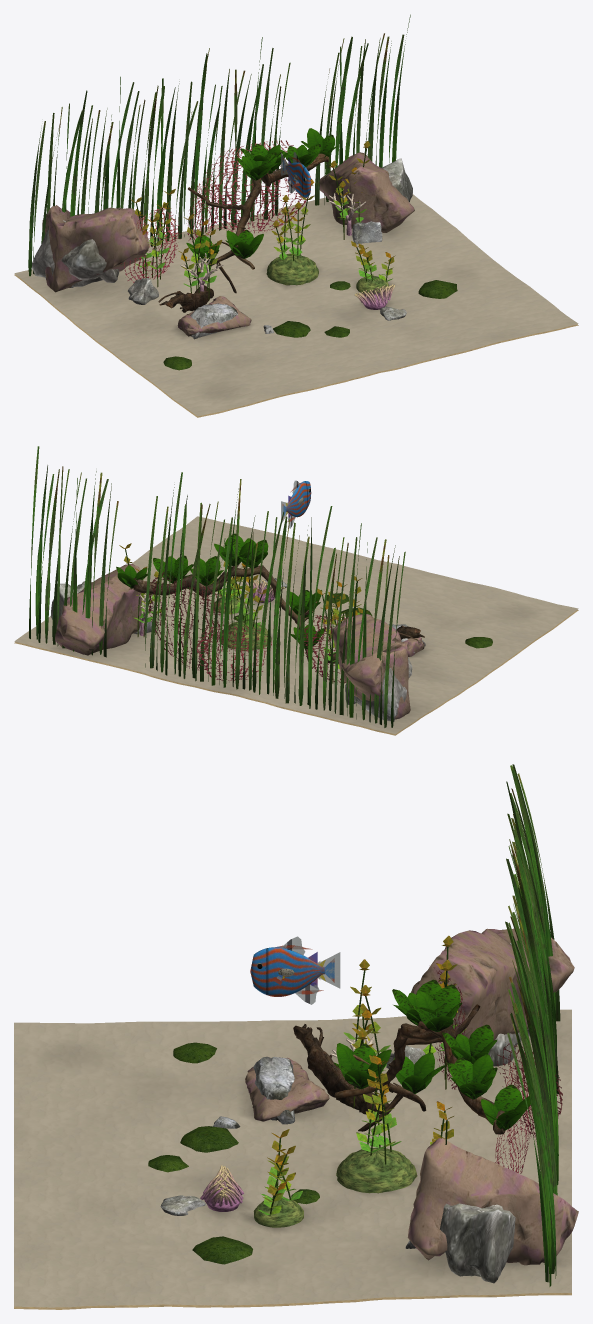
File: aquarium-scape-hd.glb
3 renders of one model, top to bottom at view 1: azimuth 30°, elevation 25°; view 2: azimuth 150°, elevation 25°; view 3: azimuth 270°, elevation 25°, orthographic. The views are drawn at different scales.
Parts seen in each view (by area): view 1: reef-sand, fresh-plant-vallisneria, reef-rocks, fresh-rocks, fresh-plant-rotala, reef-coral-fan, fresh-plant-fern, fresh-driftwood, fresh-plant-moss, reef-coral-brain, substrate, reef-coral-staghorn (+2 smaller); view 2: reef-sand, fresh-plant-vallisneria, reef-rocks, fresh-plant-fern, reef-coral-fan, fresh-plant-rotala, fresh-driftwood, fresh-rocks, substrate, reef-coral-brain, fresh-plant-moss, discus-body; view 3: reef-sand, reef-rocks, fresh-plant-vallisneria, fresh-plant-fern, fresh-rocks, fresh-plant-rotala, fresh-driftwood, reef-coral-brain, fresh-plant-moss, discus-body, reef-coral-fan, substrate (+2 smaller).
Part boxes in pixels (bbox=[...]): reef-sand: bbox=[14, 194, 578, 416]; fresh-plant-vallisneria: bbox=[28, 14, 410, 276]; reef-rocks: bbox=[42, 152, 414, 336]; fresh-rocks: bbox=[32, 158, 412, 339]; fresh-plant-rotala: bbox=[130, 141, 395, 300]; reef-coral-fan: bbox=[120, 140, 309, 282]; fresh-plant-fern: bbox=[186, 128, 337, 263]; fresh-driftwood: bbox=[158, 153, 329, 312]; fresh-plant-moss: bbox=[163, 280, 457, 370]; reef-coral-brain: bbox=[266, 253, 388, 293]; substrate: bbox=[14, 274, 578, 417]; reef-coral-staghorn: bbox=[180, 192, 365, 291]; reef-sand: bbox=[14, 516, 578, 734]; fresh-plant-vallisneria: bbox=[29, 446, 405, 727]; reef-rocks: bbox=[55, 564, 424, 719]; fresh-plant-fern: bbox=[116, 533, 324, 649]; reef-coral-fan: bbox=[148, 571, 347, 682]; fresh-plant-rotala: bbox=[119, 543, 368, 683]; fresh-driftwood: bbox=[130, 563, 424, 668]; fresh-rocks: bbox=[50, 578, 425, 721]; substrate: bbox=[14, 610, 578, 735]; reef-coral-brain: bbox=[214, 596, 271, 650]; fresh-plant-moss: bbox=[182, 574, 492, 648]; discus-body: bbox=[285, 481, 311, 517]; reef-sand: bbox=[14, 1009, 571, 1307]; reef-rocks: bbox=[245, 928, 578, 1265]; fresh-plant-vallisneria: bbox=[505, 764, 560, 1286]; fresh-plant-fern: bbox=[333, 979, 530, 1130]; fresh-rocks: bbox=[160, 943, 529, 1283]; fresh-plant-rotala: bbox=[258, 935, 466, 1215]; fresh-driftwood: bbox=[293, 1004, 504, 1134]; reef-coral-brain: bbox=[253, 1147, 417, 1227]; fresh-plant-moss: bbox=[148, 1042, 319, 1264]; discus-body: bbox=[250, 947, 325, 996]; reef-coral-fan: bbox=[433, 967, 562, 1173]; substrate: bbox=[14, 1293, 571, 1309].
Size of the model in its own units: 2.4 by 1.28 by 2.03.
12 materials, 11 textured.
